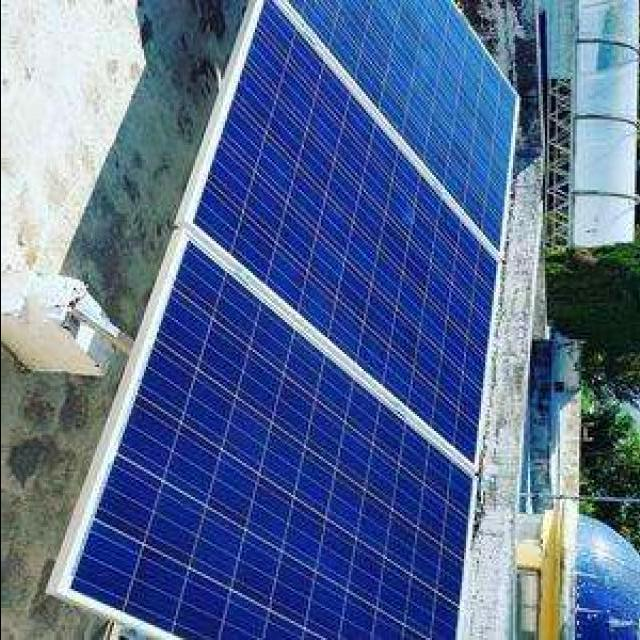no faulty: (68, 10, 518, 640)
